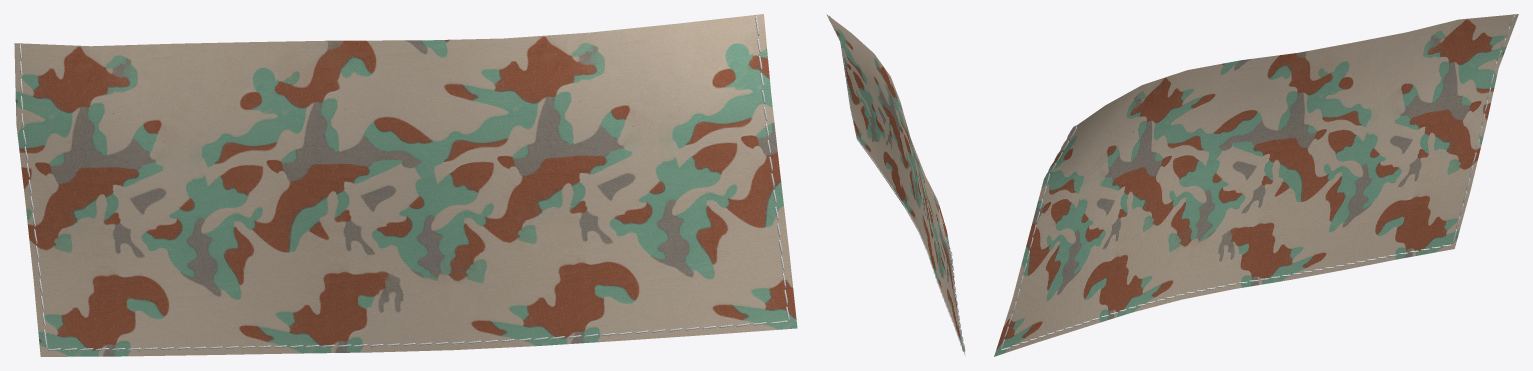
File: sz2youqdougq.glb
3 views of the same model, side by side, from view 1: azimuth 30°, elevation 25°; view 2: azimuth 150°, elevation 25°; view 3: azimuth 270°, elevation 25° (orthographic). The views are drawn at different scales.
Visible parts, largest first — view 1: sz2youqdougq, _1; view 2: sz2youqdougq, _1; view 3: sz2youqdougq, _1.
Part boxes in pixels (x1,y1,x2,y2): sz2youqdougq: (14, 14, 797, 356); _1: (19, 15, 789, 350); sz2youqdougq: (826, 14, 965, 355); _1: (828, 15, 965, 351); sz2youqdougq: (994, 14, 1518, 356); _1: (1000, 14, 1514, 350).
Size of the model in its own units: 1.16 by 0.8619 by 1.25.
2 materials, 2 textured.
